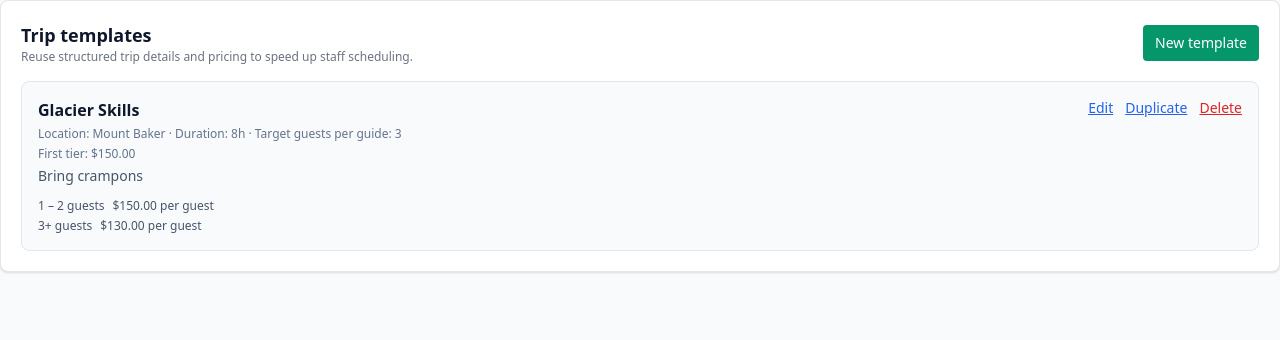
Test: ServiceTemplatesCard › deletes a template with confirmation
Expected: the heading "Glacier Skills" is shown, [38, 99, 140, 121]
Step 1. Click the button "Delete" → (1221, 108), box [1199, 98, 1242, 118]
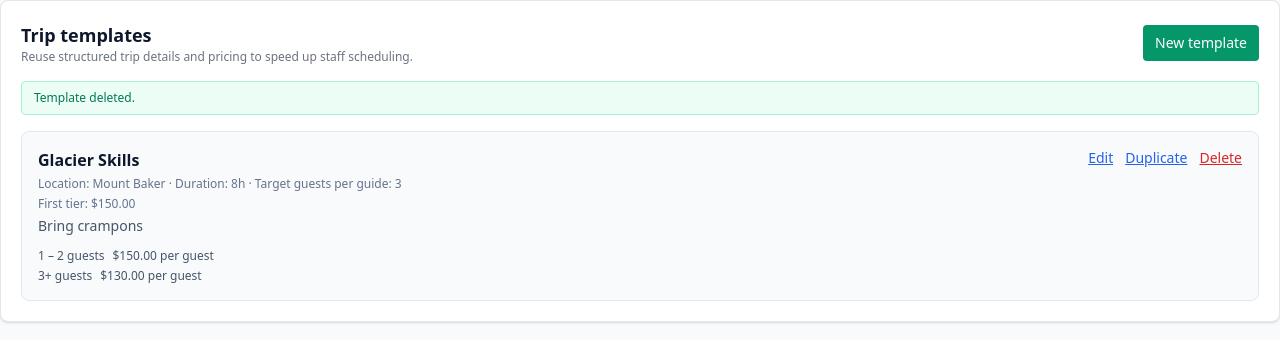
Now the text "Template deleted." is shown, box [21, 81, 1259, 115]
